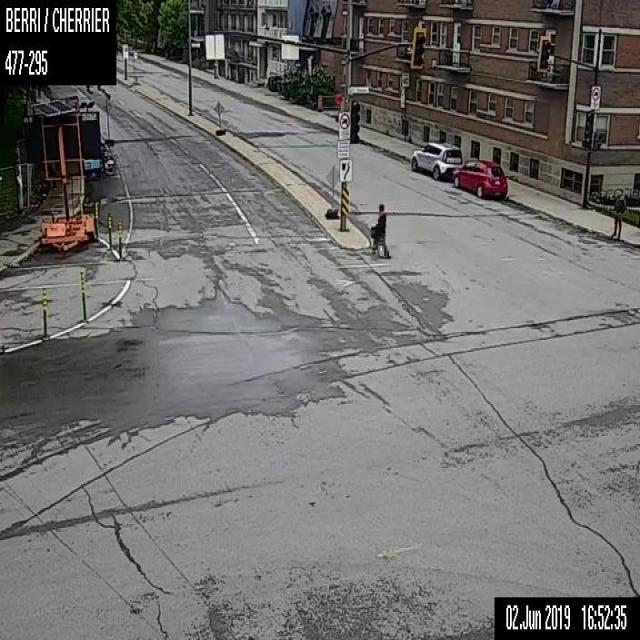construction: (23, 96, 102, 253), (326, 164, 338, 216), (101, 92, 112, 143), (79, 269, 87, 323), (214, 102, 224, 134), (115, 222, 123, 262), (42, 285, 47, 339), (107, 214, 113, 250)
pedestrian: (369, 202, 389, 258), (611, 187, 624, 241)
vehicle: (452, 159, 507, 197), (410, 141, 462, 179)
